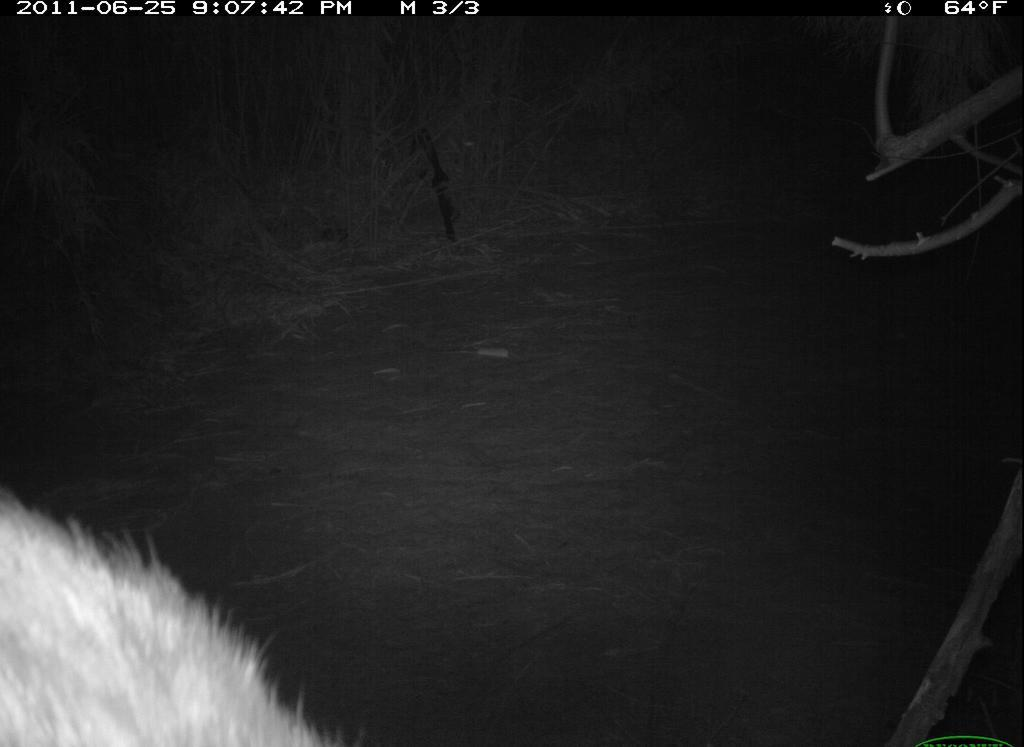raccoon: (3, 478, 377, 745)
